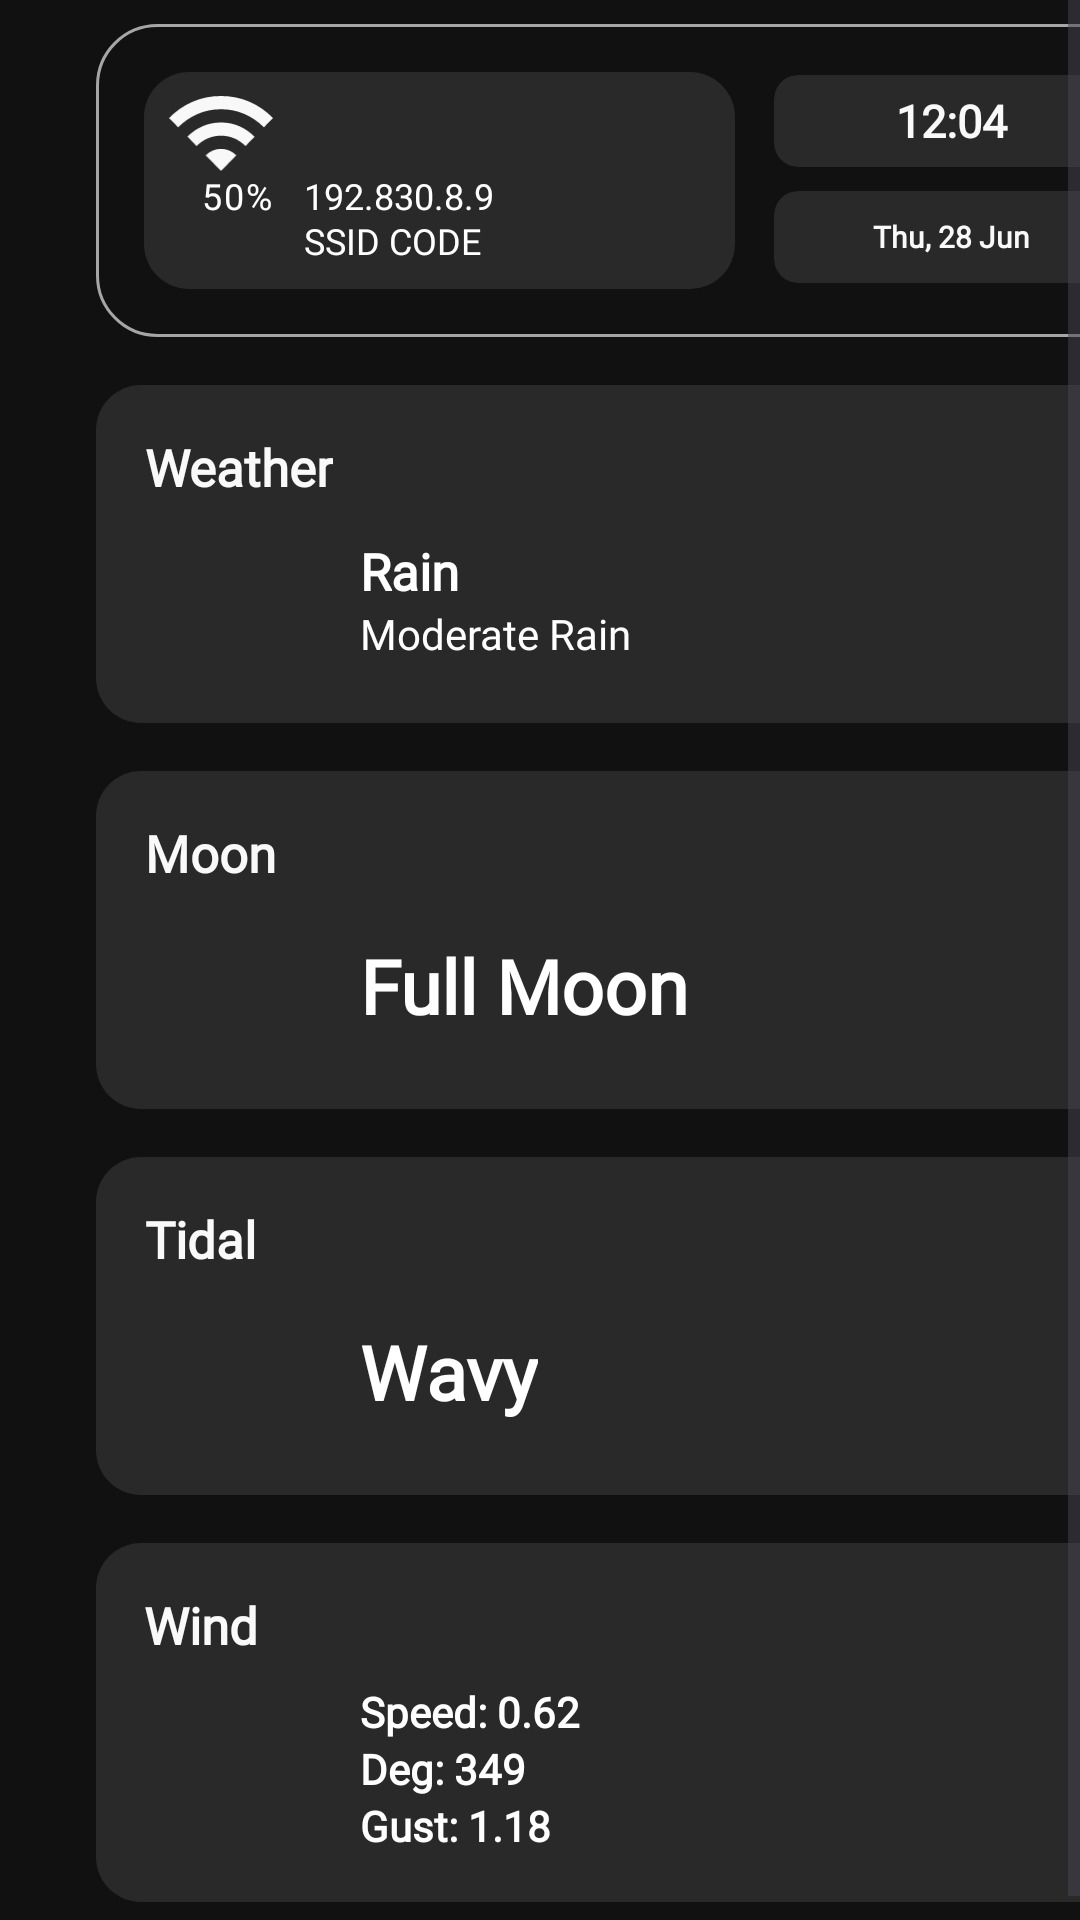

Icon click points for this 1080w x 1920h phone screenshot, format [x,y]:
signal: [221,133]
